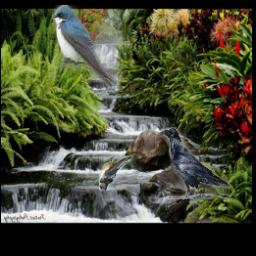Crow: (162, 127, 230, 199)
Swallow: (52, 6, 117, 87), (98, 155, 140, 191)
